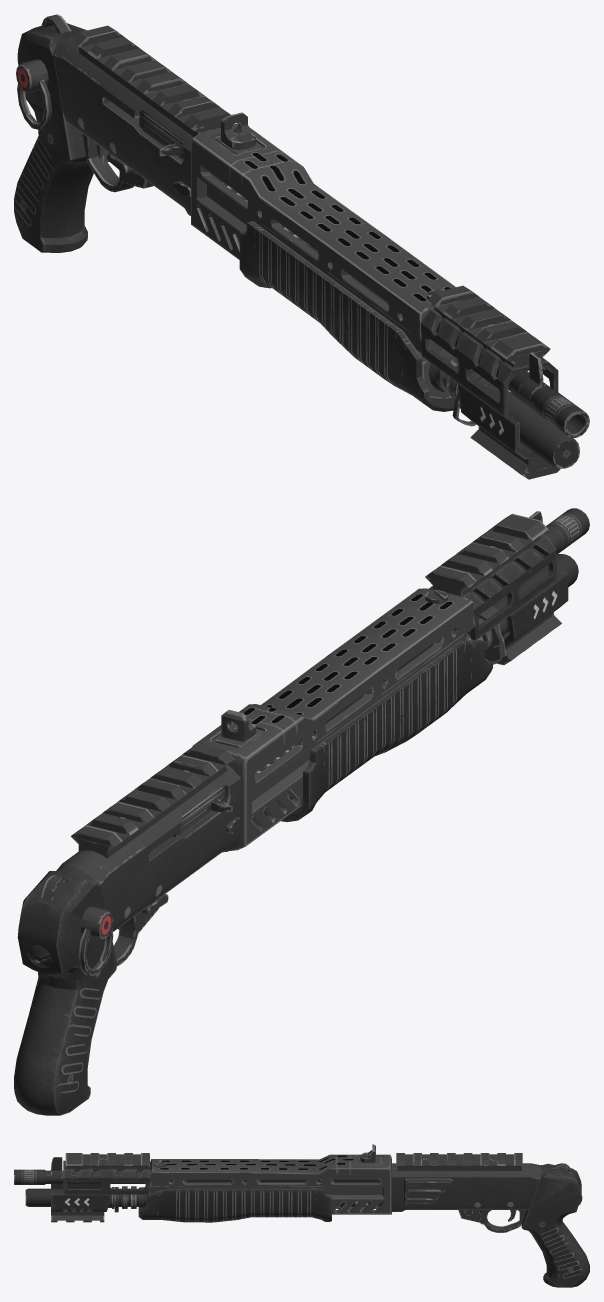
File: spas_12_tactical.glb
3 views of the same model, one above another, from view 1: azimuth 30°, elevation 25°; view 2: azimuth 150°, elevation 25°; view 3: azimuth 270°, elevation 25° (orthographic). The views are drawn at different scales.
Visible parts, largest first — view 1: Object_2; view 2: Object_2; view 3: Object_2.
Boxes of the visible parts, bbox=[...] form: Object_2: bbox=[14, 14, 589, 479]; Object_2: bbox=[14, 508, 589, 1115]; Object_2: bbox=[14, 1144, 589, 1287].
Size of the model in its own units: 2.76 by 8.86 by 34.26.
1 material, 1 textured.
